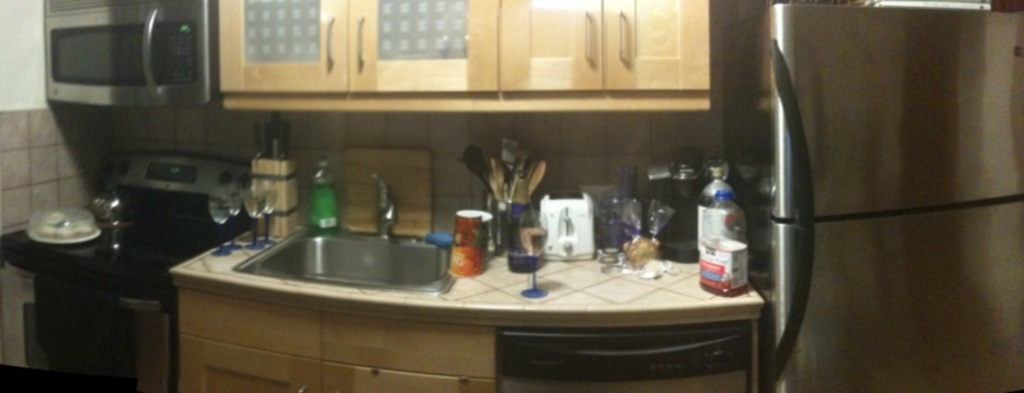cabinet door: (344, 2, 498, 90), (210, 1, 344, 90), (500, 8, 610, 88), (606, 7, 710, 88), (178, 350, 310, 393), (334, 373, 481, 393)
handle: (763, 60, 803, 214), (769, 219, 818, 327), (140, 17, 161, 82), (610, 13, 637, 63), (347, 19, 374, 67), (577, 19, 602, 64), (317, 20, 338, 69)
refrigerator door: (786, 16, 1024, 199), (801, 211, 1024, 393)
